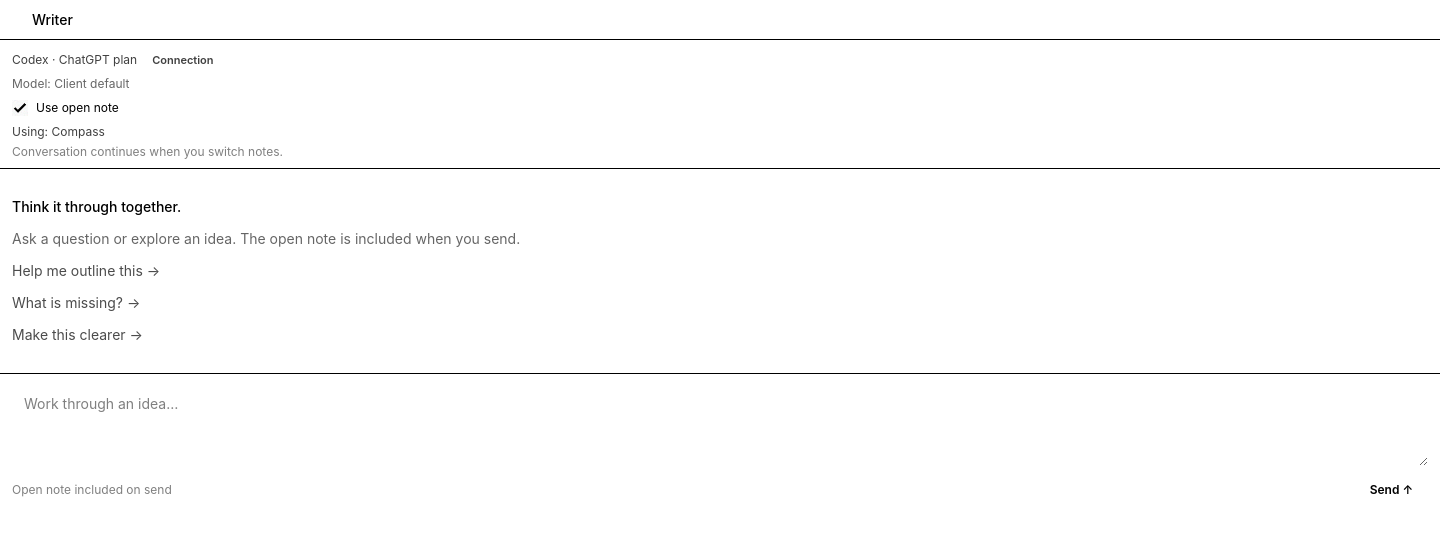
Test: refreshes the context preview when a held draft changes
The width and height of the screenshot is (1440, 538).
Click the button "Using: Compass".
click(58, 132)  # box [12,124,1428,140]
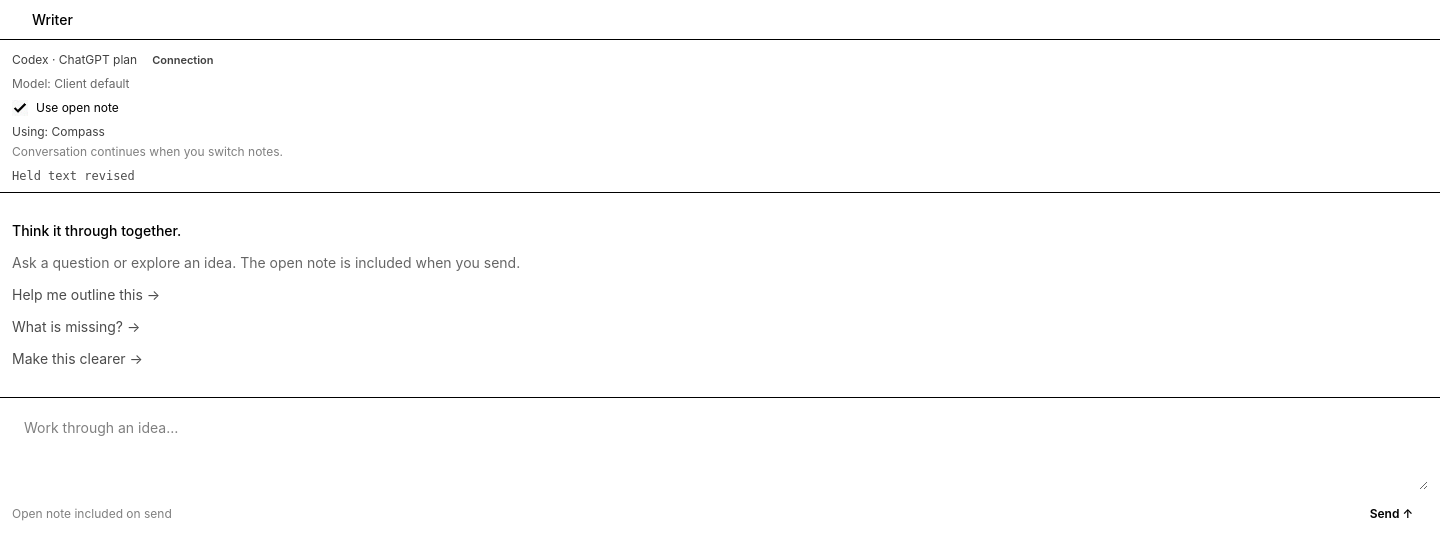
Expected: the text "Held text revised" is shown, [12,169,135,183]
